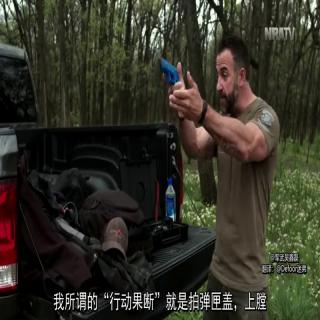gun: (154, 50, 194, 123)
